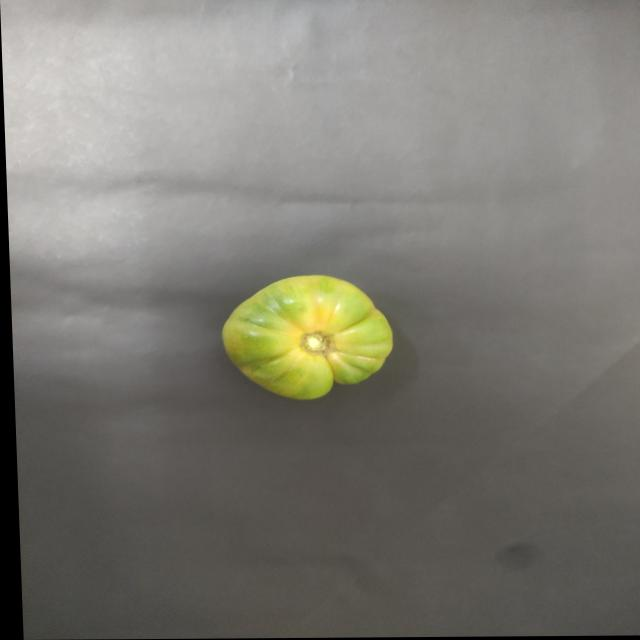yesil: (200, 273, 417, 402)
